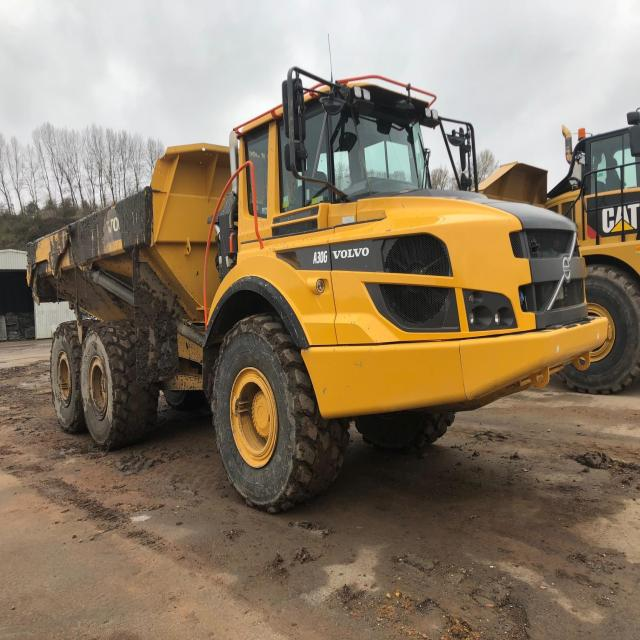dump_truck: (25, 67, 621, 517)
